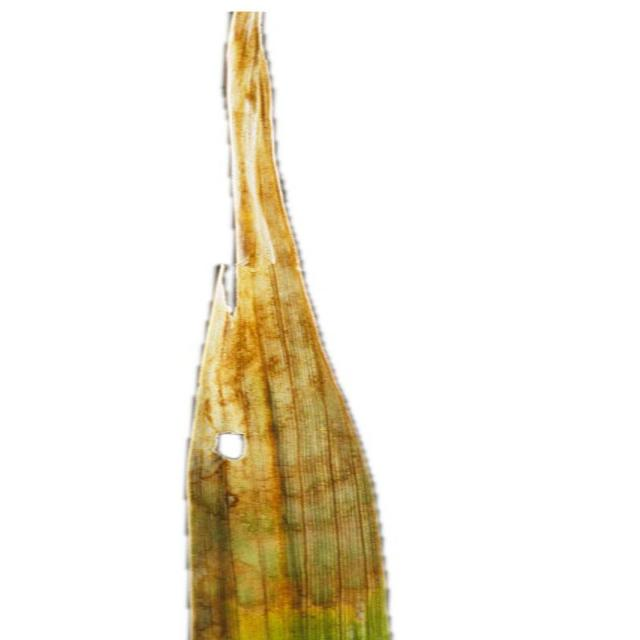Leaf scald: (85, 7, 437, 640)
